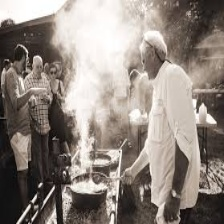smoke: (60, 1, 114, 162)
